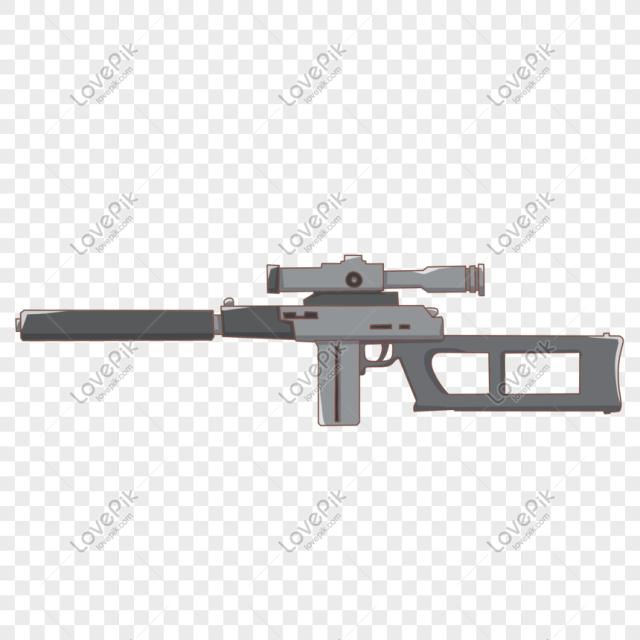firearm: (15, 252, 625, 427)
